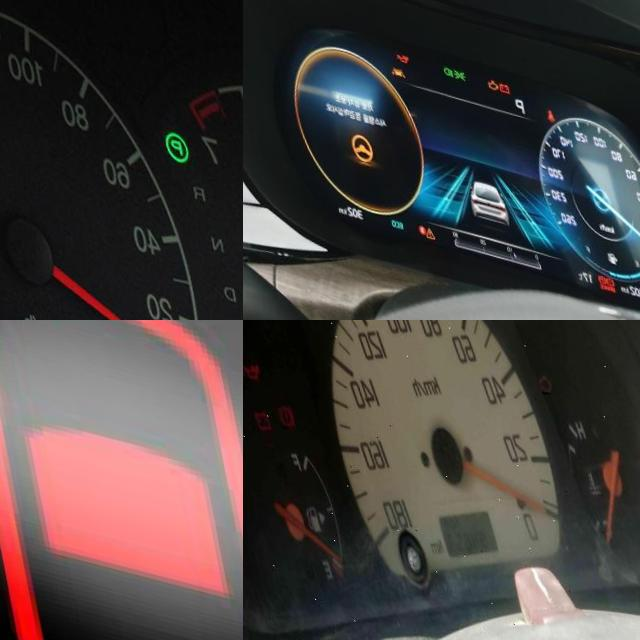Central Warning lamp: (409, 214, 420, 228)
LaneCenteringOff: (382, 53, 397, 66)
Low beam: (435, 51, 446, 62)
SideLamp: (444, 52, 458, 66)
